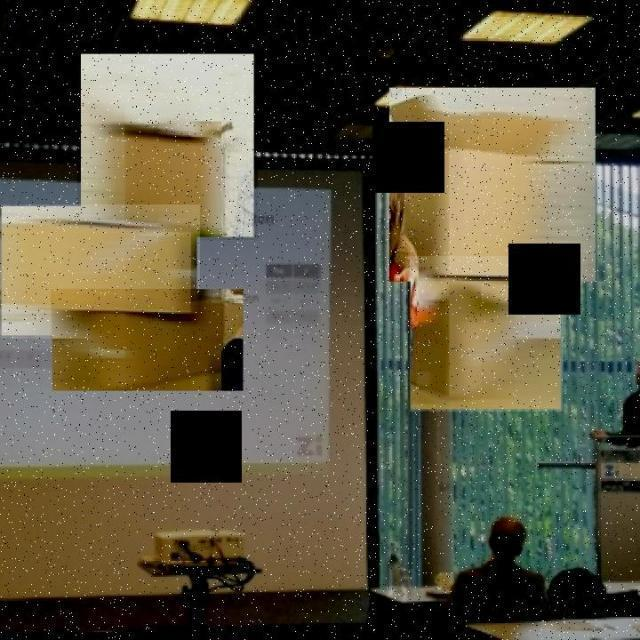box: (386, 85, 600, 286), (77, 52, 258, 240), (0, 204, 200, 338), (410, 256, 562, 412), (50, 289, 246, 393)
